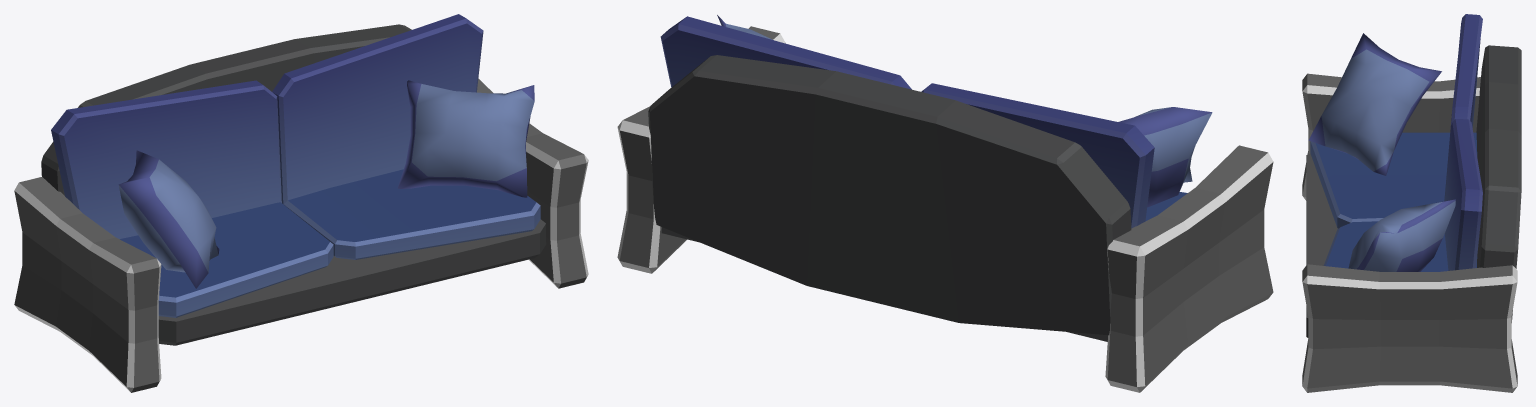
File: sofa.fbx
3 views of the same model, side by side, from view 1: azimuth 30°, elevation 25°; view 2: azimuth 150°, elevation 25°; view 3: azimuth 270°, elevation 25° (orthographic). The views are drawn at different scales.
Visible parts, largest first — view 1: Cube.017; view 2: Cube.017; view 3: Cube.017.
Boxes of the visible parts, left/top/right/bottom form: Cube.017: left=14, top=14, right=588, bottom=392; Cube.017: left=617, top=15, right=1273, bottom=392; Cube.017: left=1302, top=14, right=1521, bottom=392.
Bounding box in the file's own units: 489 × 211 × 220.
